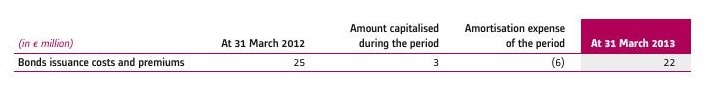table: (0, 0, 714, 91)
